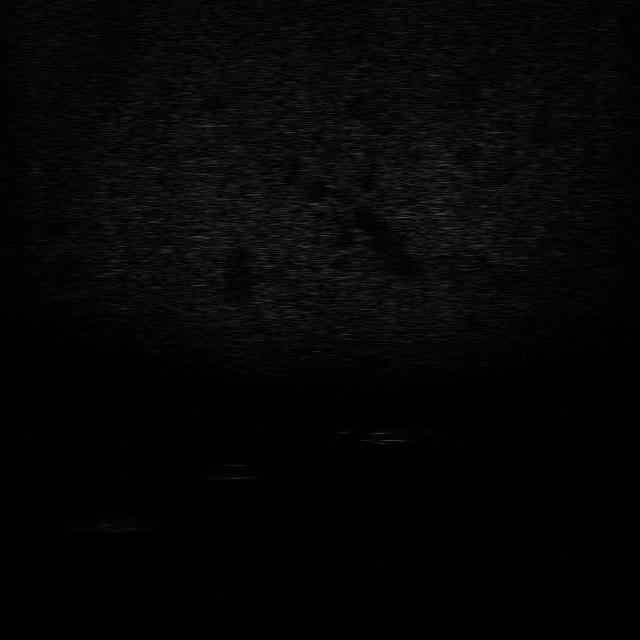ball: (205, 458, 256, 487)
circle cage: (56, 509, 145, 535)
human body: (326, 419, 440, 447)
